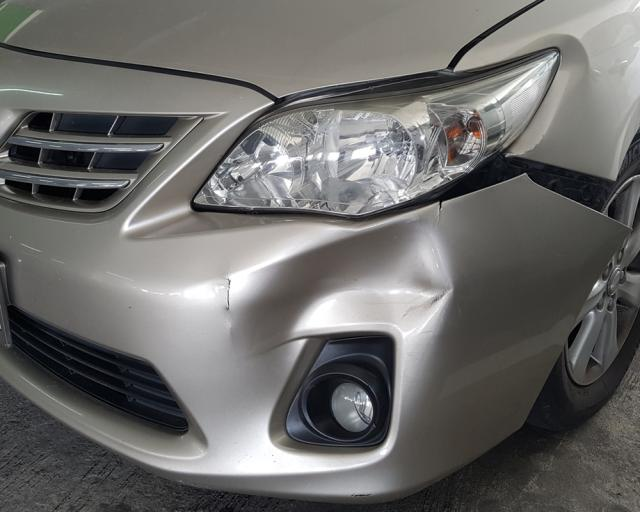crack: (436, 202, 444, 230)
dent: (233, 215, 454, 364)
